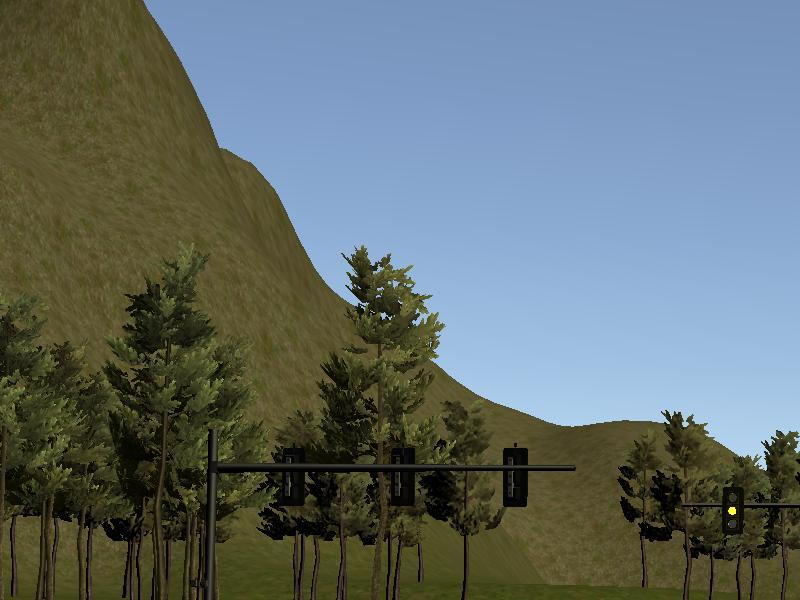Yellow: (722, 487, 743, 535)
